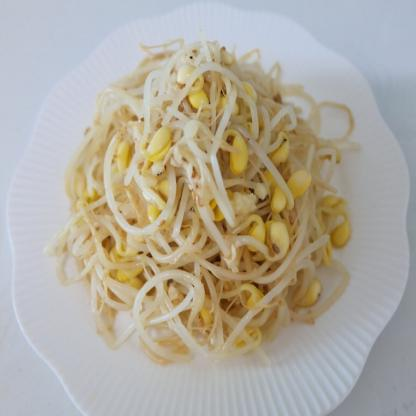bean sprouts: (94, 51, 344, 351)
